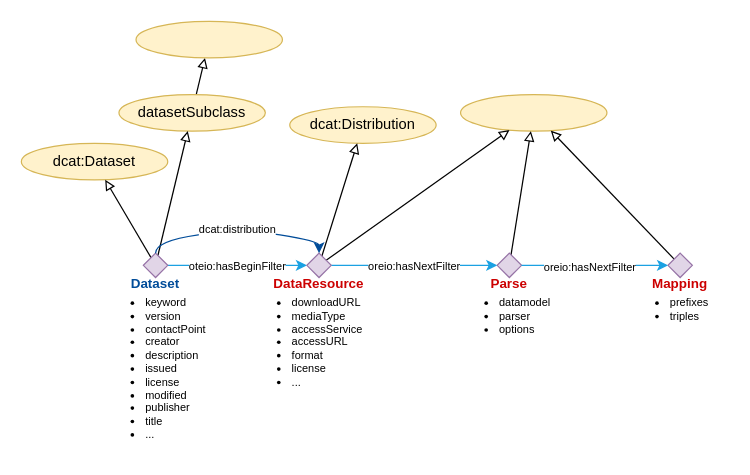
Image size: 750x475. Some labels were removed from this diagram. Each missing label, with the centre of its shape:
emmo:DataSet: the point at 208,39
oteio:Filter: the point at 533,112
